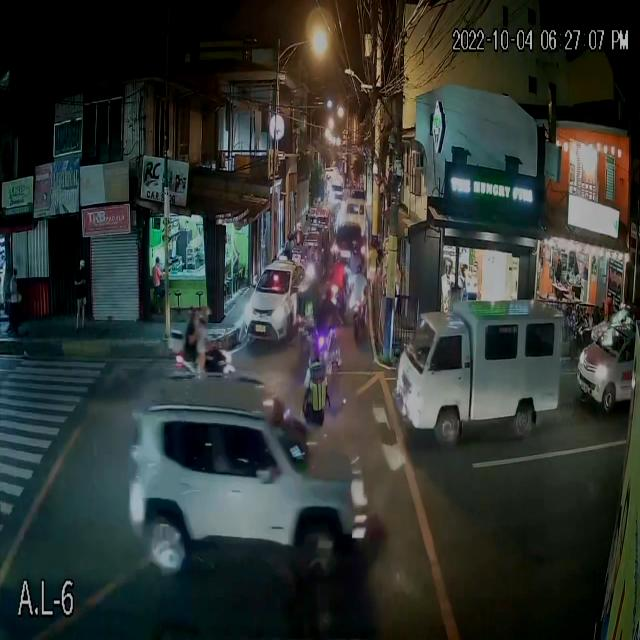Full-Faced: (184, 300, 201, 322), (198, 300, 212, 322), (350, 234, 360, 258), (356, 262, 364, 280)
